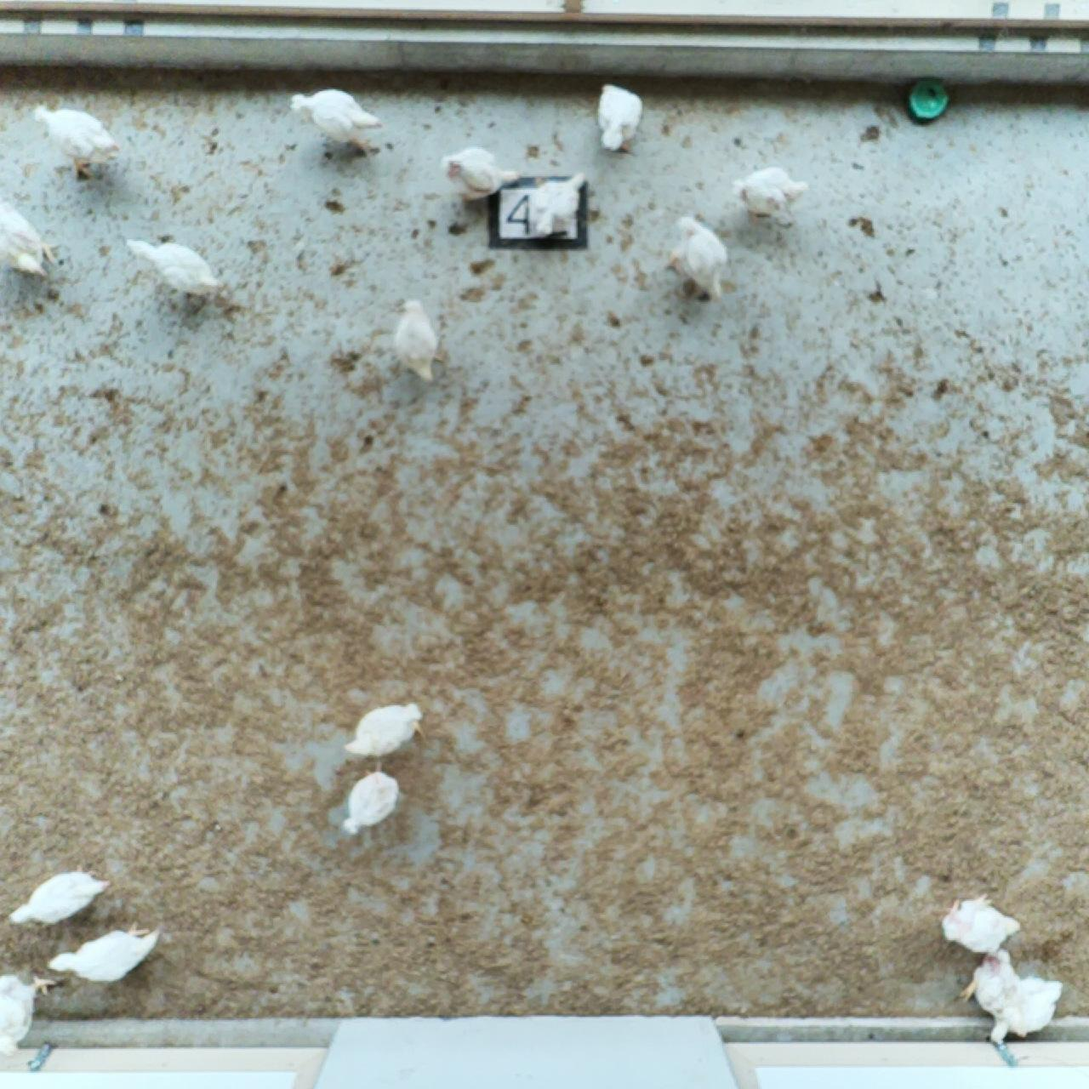chicken: (956, 942, 1064, 1055), (49, 918, 164, 989), (32, 98, 123, 187), (7, 864, 117, 935), (661, 208, 741, 304), (130, 231, 225, 309), (0, 191, 66, 286), (291, 86, 382, 154), (334, 764, 407, 842), (386, 293, 447, 386), (341, 698, 432, 760), (732, 164, 812, 228), (527, 163, 588, 245), (941, 893, 1028, 946), (594, 79, 649, 160), (0, 968, 50, 1057), (446, 142, 524, 199)
